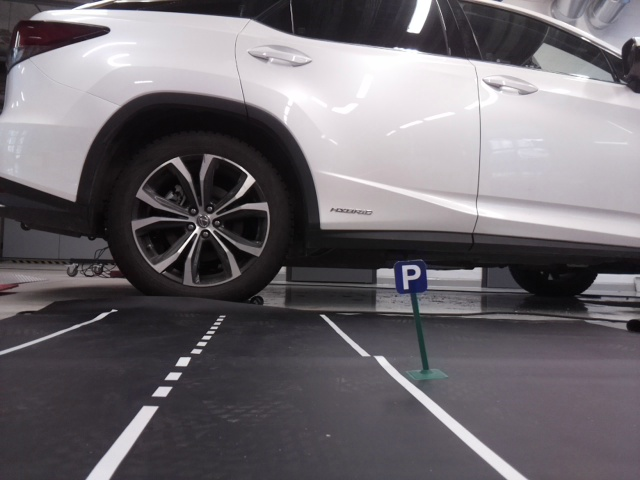Parking: (393, 261, 428, 293)
